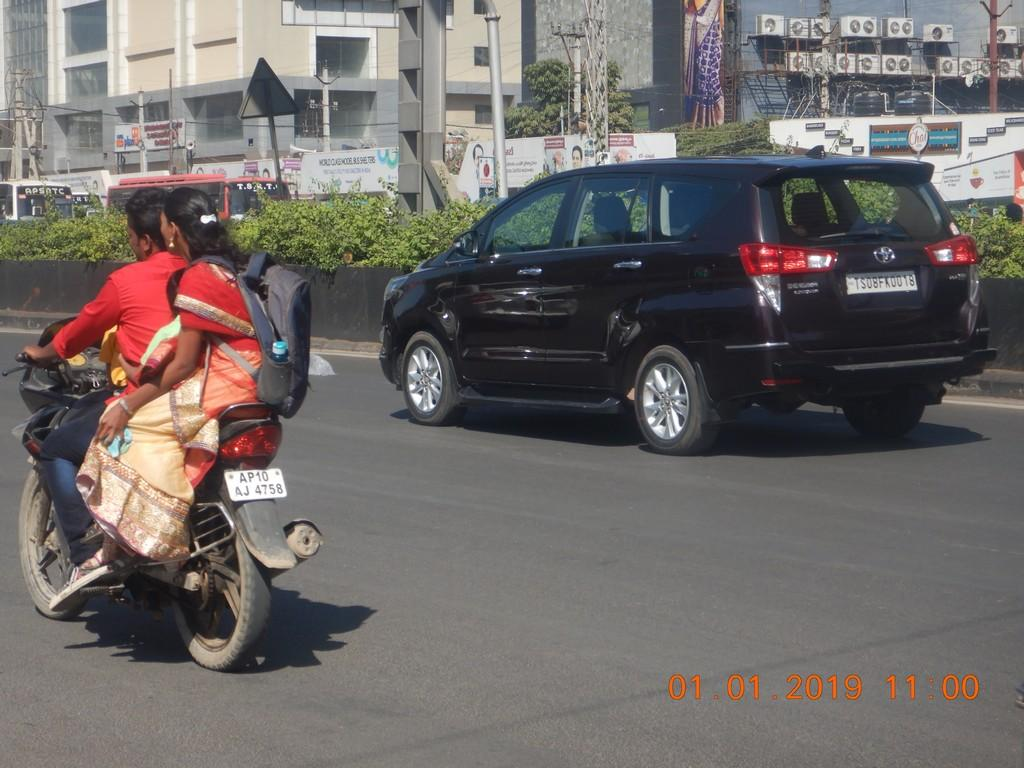plate: (229, 465, 285, 505)
